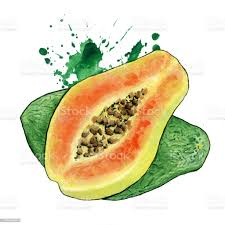papaya: (47, 49, 189, 200)
